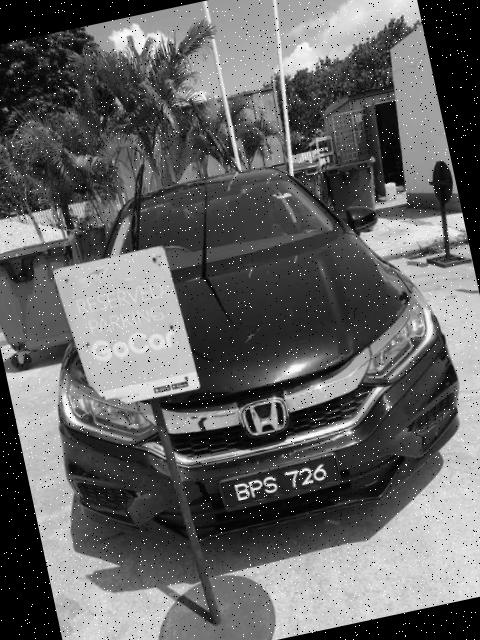License_Plate: (217, 452, 345, 513)
car: (12, 134, 480, 567)
